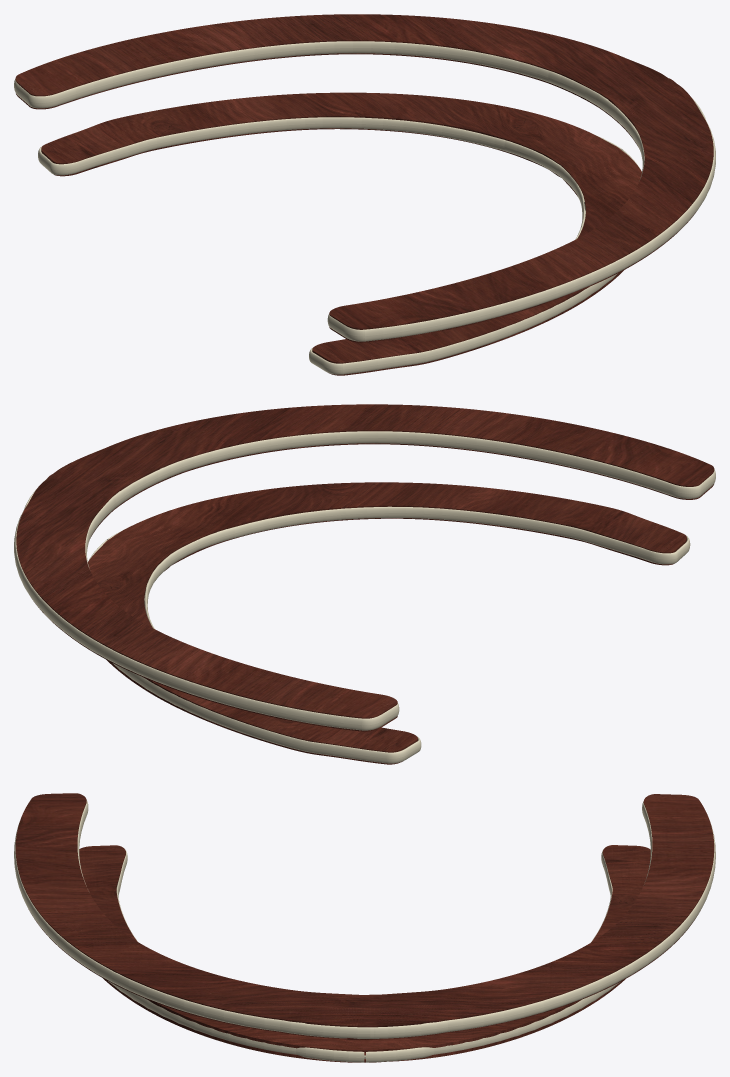
Rendered from rack.fbx.
3 renders of one model, top to bottom at view 1: azimuth 30°, elevation 25°; view 2: azimuth 150°, elevation 25°; view 3: azimuth 270°, elevation 25°, orthographic. The views are drawn at different scales.
Visible parts, largest first — view 1: Line54, Line45, Loft19, Loft22, Line42, Line56; view 2: Line54, Line45, Loft19, Loft22, Line42, Line56; view 3: Line54, Line45, Loft19, Loft22, Line56, Line42.
Boxes of the visible parts, left/top/right/bottom form: Line54: left=15, top=14, right=713, bottom=329; Line45: left=41, top=92, right=641, bottom=363; Loft19: left=14, top=41, right=715, bottom=341; Loft22: left=38, top=117, right=640, bottom=374; Line42: left=16, top=53, right=695, bottom=342; Line56: left=54, top=128, right=623, bottom=375; Line54: left=16, top=404, right=714, bottom=718; Line45: left=88, top=482, right=686, bottom=752; Loft19: left=14, top=431, right=715, bottom=730; Loft22: left=88, top=506, right=690, bottom=763; Line42: left=33, top=443, right=713, bottom=731; Line56: left=107, top=518, right=674, bottom=764; Line54: left=15, top=793, right=714, bottom=1027; Line45: left=79, top=845, right=650, bottom=1052; Loft19: left=14, top=800, right=715, bottom=1038; Loft22: left=108, top=847, right=650, bottom=1062; Line56: left=103, top=978, right=625, bottom=1062; Line42: left=28, top=909, right=698, bottom=1039.
Bounding box in the file's own units: 39.97 × 4.99 × 50.48.
